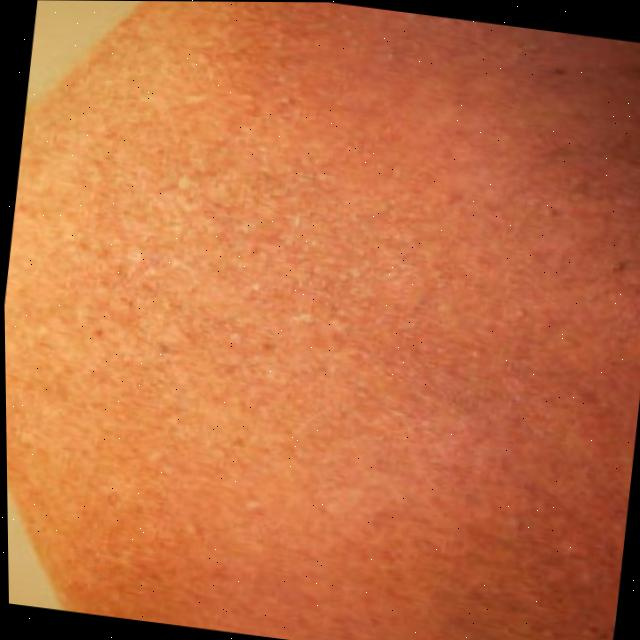Eczema: (10, 0, 553, 565)
